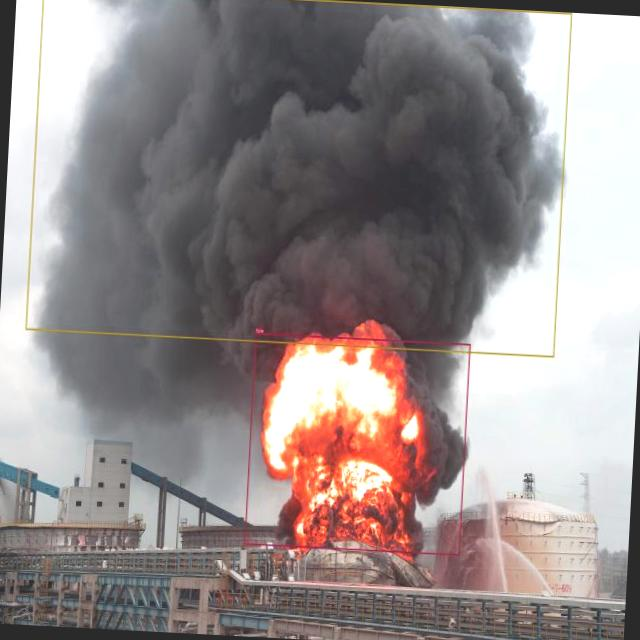fire: (244, 332, 470, 556)
smoke: (26, 0, 572, 357)
